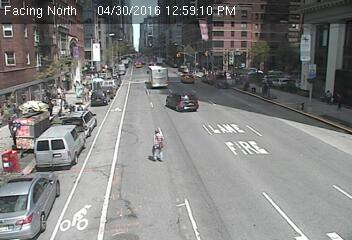neg: (288, 151, 308, 178), (222, 159, 241, 186), (58, 139, 74, 161), (234, 100, 250, 120), (23, 115, 38, 135), (141, 177, 155, 195), (19, 47, 32, 64), (81, 167, 94, 184), (100, 41, 112, 56), (192, 32, 203, 47), (127, 95, 138, 109), (164, 42, 173, 54), (188, 99, 196, 110), (76, 37, 84, 48), (142, 76, 149, 86)
pos: (143, 126, 168, 160), (331, 90, 348, 112), (321, 85, 335, 103), (54, 85, 64, 98)
